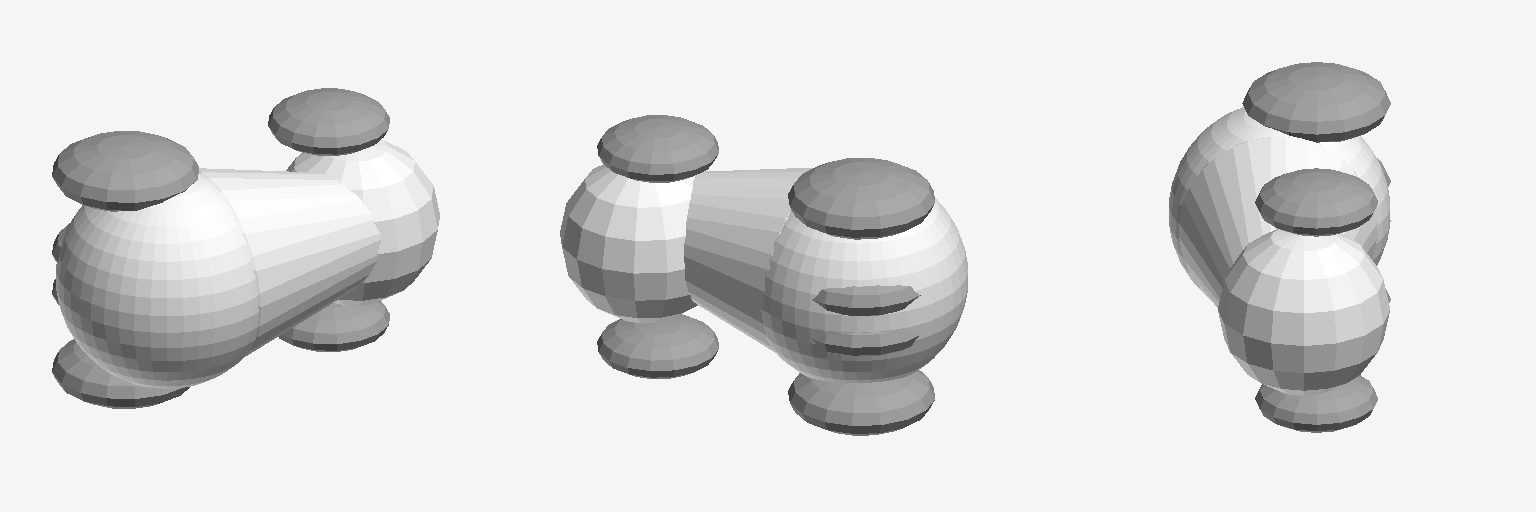
Rendered from car1.obj.
The picture shows the model from 3 angles: view 1: azimuth 30°, elevation 25°; view 2: azimuth 150°, elevation 25°; view 3: azimuth 270°, elevation 25°; orthographic projection.
Parts seen in each view (by area): view 1: sphere1_default, sphere2_default; view 2: sphere1_default, sphere2_default, sphere3_pneumatic; view 3: sphere2_default, sphere1_default.
Boxes of the visible parts, x1=… form: sphere1_default: x1=56, y1=173, x2=258, y2=388; sphere2_default: x1=286, y1=140, x2=439, y2=305; sphere1_default: x1=761, y1=198, x2=967, y2=382; sphere2_default: x1=560, y1=164, x2=697, y2=323; sphere3_pneumatic: x1=812, y1=285, x2=920, y2=315; sphere2_default: x1=1218, y1=229, x2=1389, y2=395; sphere1_default: x1=1169, y1=107, x2=1389, y2=296.
Bounding box in the file's own units: 3.84 × 2.47 × 1.99.